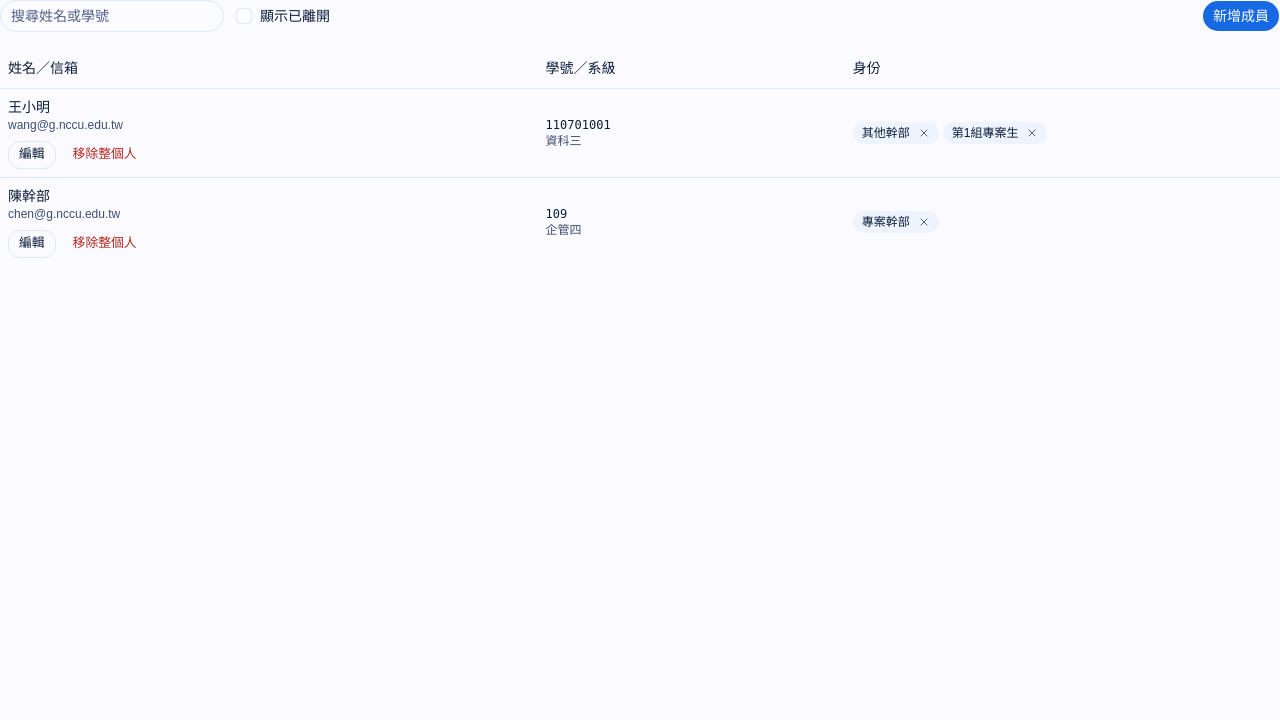
Scenario: MembersSection（管理員頁成員區塊） › 按取消不會移除
The image size is (1280, 720).
Click the button named "移除王小明的第1組專案生身份": (1032, 132) 1020,120 -> 1044,144
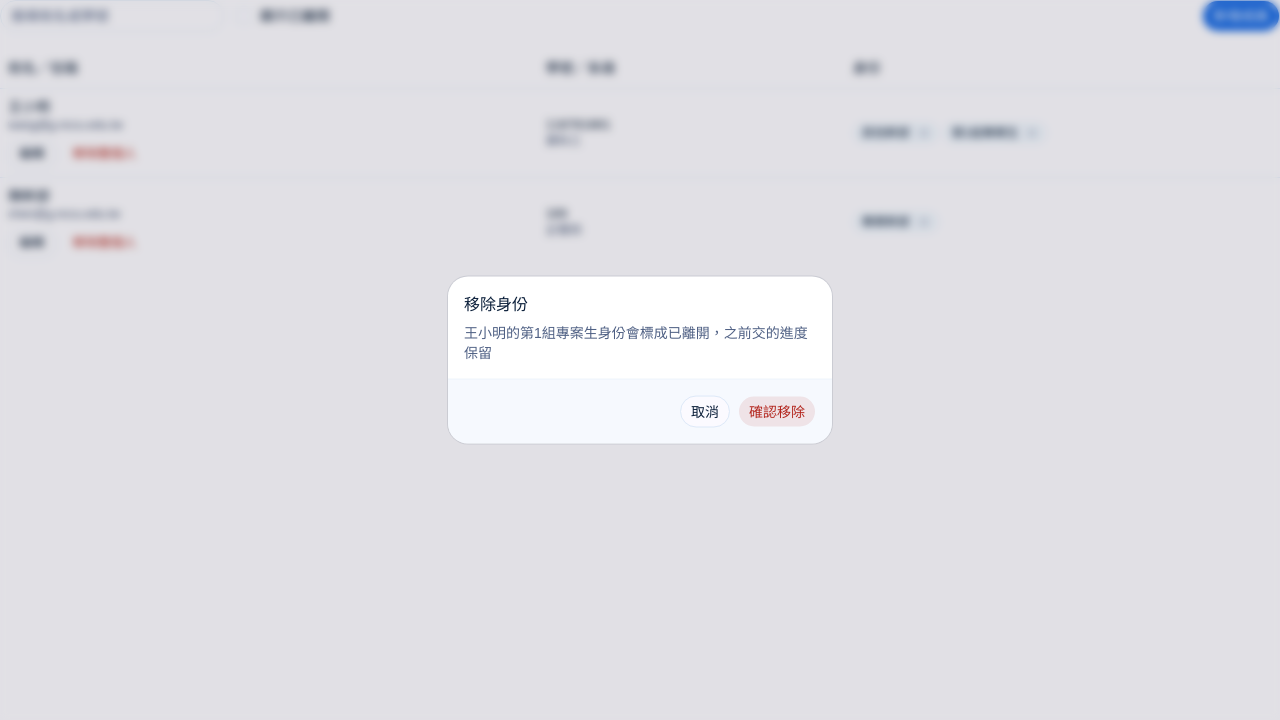
Click the button "取消": (705, 412) 680,396 -> 730,428
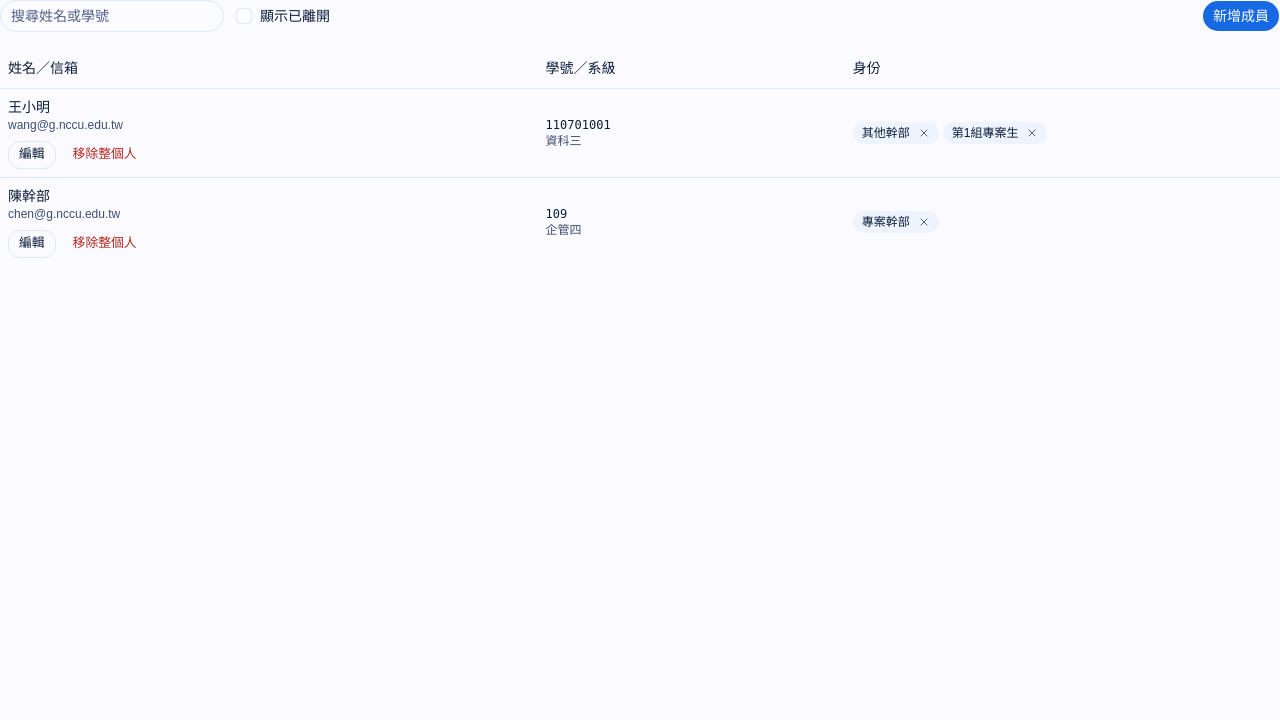
Expected: the dialog is gone
